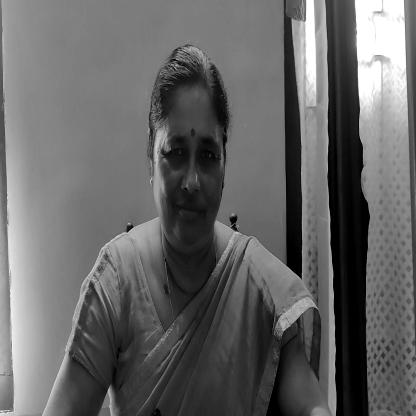Normal: (149, 48, 230, 258)
